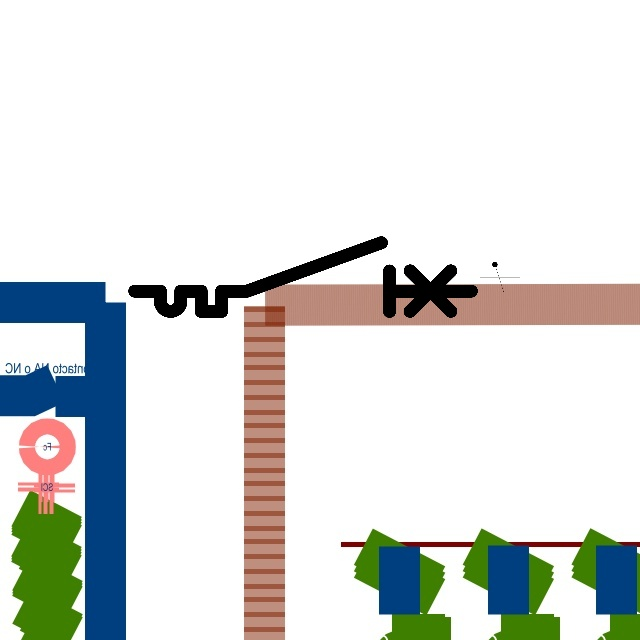interruptor_termomagnetico: (126, 234, 480, 320)
